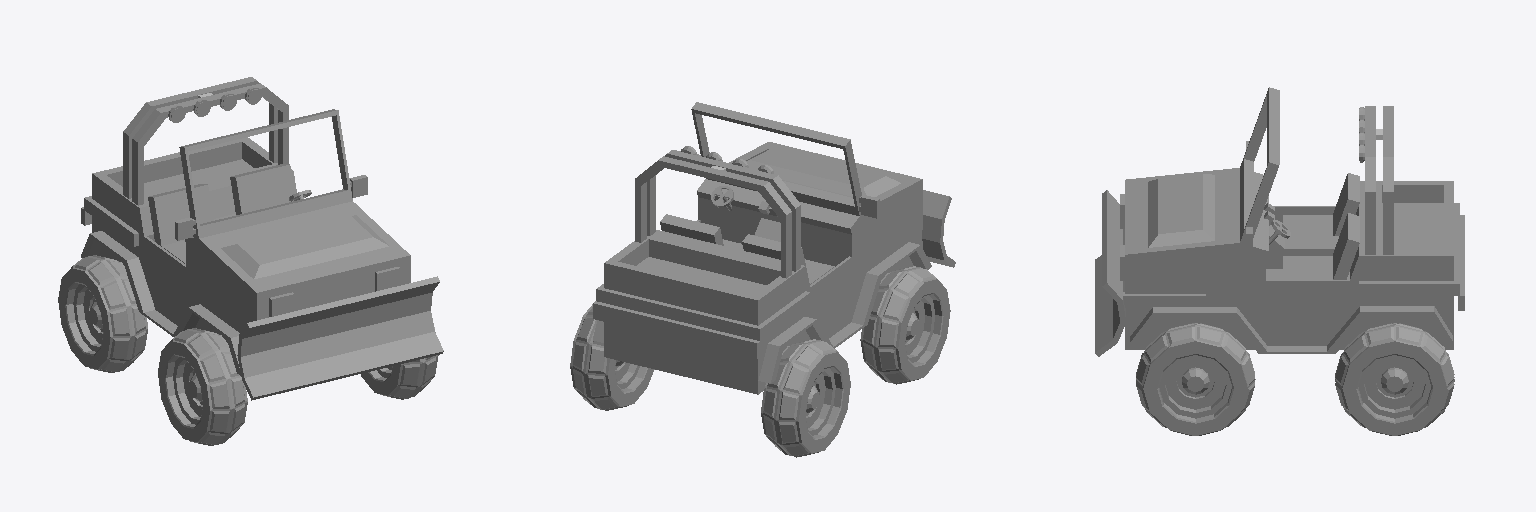
File: car2.obj
3 views of the same model, side by side, from view 1: azimuth 30°, elevation 25°; view 2: azimuth 150°, elevation 25°; view 3: azimuth 270°, elevation 25° (orthographic).
Visible parts, largest first — view 1: Куб, Окружность_Окружность.001, Окружность.002_Окружность.004, Куб.003_Куб.007, Плоскость.001, Куб.007_Куб.011, Куб.008_Куб.012, Куб.001_Куб.004, Окружность.003_Окружность.005, Куб.002_Куб.005; view 2: Куб, Окружность_Окружность.001, Плоскость.001, Куб.008_Куб.012, Куб.007_Куб.011, Куб.003_Куб.007, Окружность.002_Окружность.004; view 3: Куб, Окружность_Окружность.001, Куб.003_Куб.007, Плоскость.001, Окружность.002_Окружность.004, Куб.008_Куб.012, Куб.007_Куб.011, Куб.004_Куб.008, Куб.006_Куб.010.
Boxes of the visible parts, x1,y1,x2,y2 form: Куб: [81, 109, 410, 342]; Окружность_Окружность.001: [58, 255, 438, 445]; Окружность.002_Окружность.004: [237, 276, 443, 400]; Куб.003_Куб.007: [148, 164, 294, 263]; Плоскость.001: [81, 231, 240, 375]; Куб.007_Куб.011: [132, 83, 288, 205]; Куб.008_Куб.012: [123, 77, 277, 198]; Куб.001_Куб.004: [269, 267, 400, 316]; Окружность.003_Окружность.005: [168, 87, 261, 122]; Куб.002_Куб.005: [175, 175, 367, 240]; Куб: [593, 102, 922, 394]; Окружность_Окружность.001: [570, 266, 950, 457]; Плоскость.001: [593, 242, 931, 383]; Куб.008_Куб.012: [635, 156, 791, 278]; Куб.007_Куб.011: [647, 150, 800, 271]; Куб.003_Куб.007: [660, 214, 834, 284]; Окружность.002_Окружность.004: [922, 190, 955, 267]; Куб: [1125, 87, 1464, 349]; Окружность_Окружность.001: [1136, 323, 1454, 435]; Куб.003_Куб.007: [1283, 173, 1359, 279]; Плоскость.001: [1130, 306, 1452, 353]; Окружность.002_Окружность.004: [1095, 190, 1125, 356]; Куб.008_Куб.012: [1383, 106, 1393, 254]; Куб.007_Куб.011: [1365, 106, 1375, 254]; Куб.004_Куб.008: [1266, 225, 1338, 268]; Куб.006_Куб.010: [1123, 292, 1205, 306].
Size of the model in its own units: 5.03 by 5.52 by 7.07.